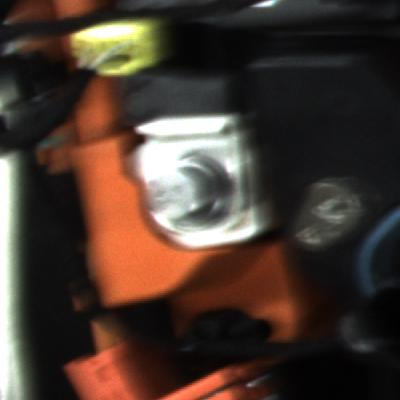nut_b: (142, 146, 239, 239)
